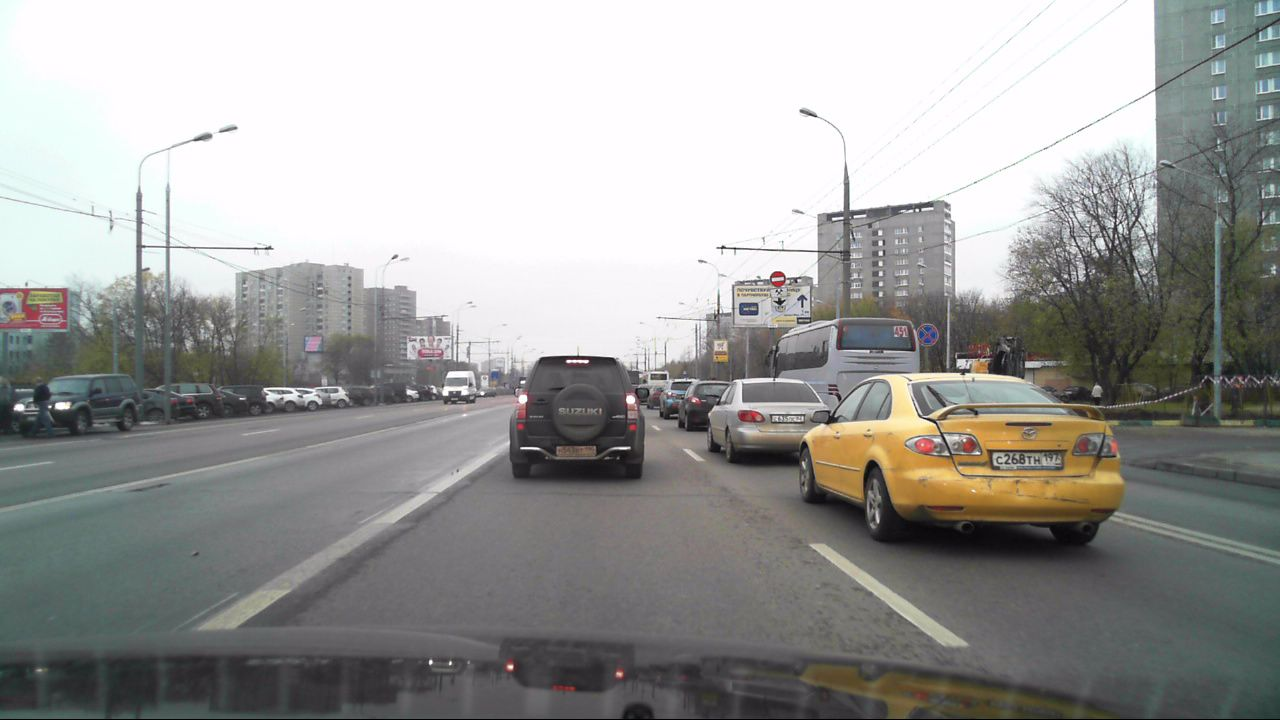No Parking: (916, 323, 938, 347)
